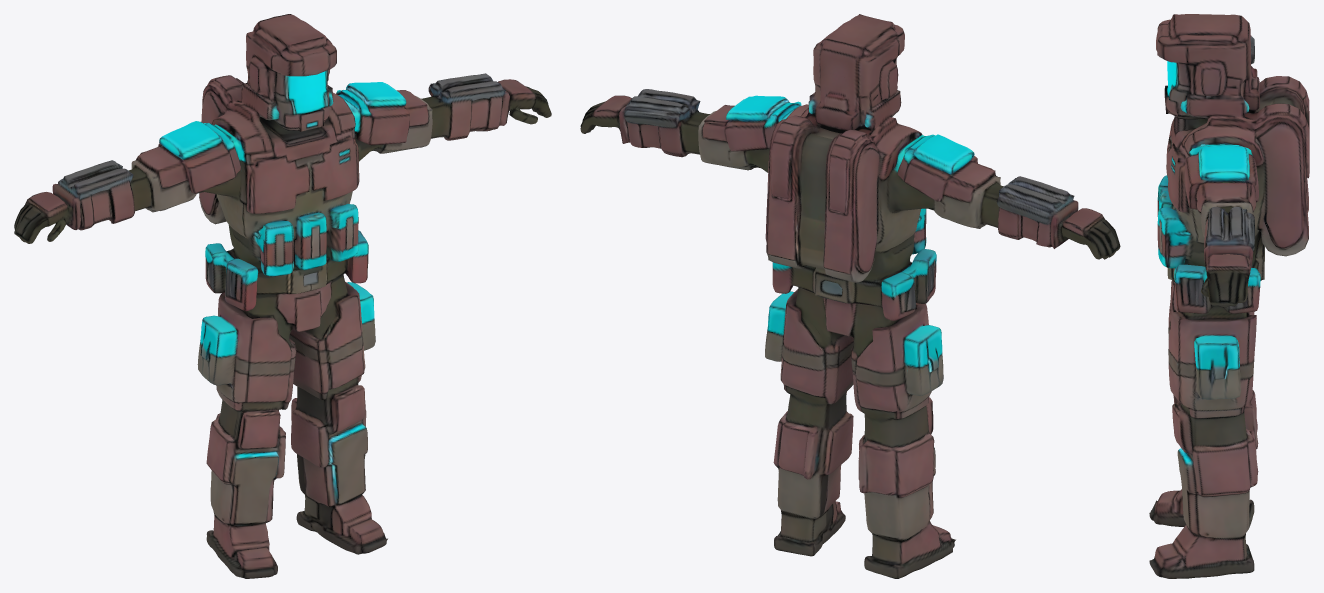
Rendered from character_shaded.fbx.
3 renders of one model, left to right at view 1: azimuth 30°, elevation 25°; view 2: azimuth 150°, elevation 25°; view 3: azimuth 270°, elevation 25°, orthographic.
Visible parts, largest first — view 1: model; view 2: model; view 3: model.
Part boxes in pixels (x1,y1,x2,y2): model: (14,14,551,578); model: (580,14,1120,578); model: (1149,14,1309,578).
Bounding box in the file's own units: 190 × 177 × 49.18.
